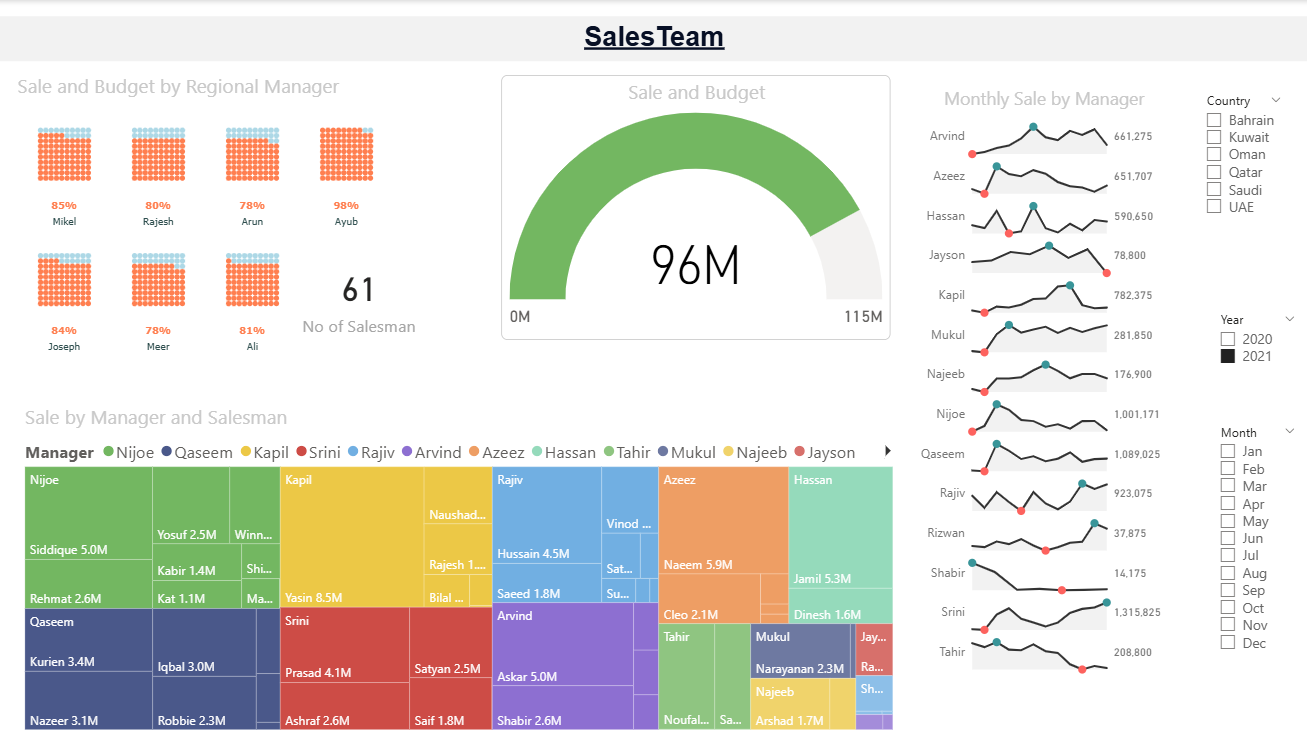

Layout of this report page (visuals, bound fields, positions):
{"tool":"powerbi","page":{"name":"Sales 2","canvas":[1280,720],"ordinal":2},"visuals":[{"type":"textbox","box":[0,15.9,1280.3,44],"z":0},{"type":"WaffleChart1453776852267","title":"Sale and Budget by Regional Manager","fields":{"Category":["Sales Data.Regional Manager"],"Values":["Sum(Sales Data.Sale)"],"MaxValue":["Sum(Sales Data.Budget)"]},"box":[12.2,70.9,377.9,289.6],"z":1000},{"type":"gauge","fields":{"Y":["Sum(Sales Data.Sale)"],"MaxValue":["Sum(Sales Data.Budget)"]},"box":[490,73,381,259],"z":2000},{"type":"treemap","fields":{"Group":["Sales Data.Manager"],"Details":["Sales Data.Salesman"],"Values":["Sum(Sales Data.Sale)"]},"box":[19,395,859,324],"z":3000},{"type":"slicer","fields":{"Values":["Geography.Country"]},"box":[1168,85,98,168],"z":4000},{"type":"slicer","fields":{"Values":["Dates.Year"]},"box":[1181,299,98,96],"z":5000},{"type":"slicer","fields":{"Values":["Dates.Month"]},"box":[1181,410,98,259],"z":6000},{"type":"PBI_CV_25997FEB_F466_44FA_B562_AC4063283C4C","title":"Monthly Sale by Manager","fields":{"measure":["Sum(Sales Data.Sale)"],"axis":["Dates.Month"],"category":["Sales Data.Manager"]},"box":[887.6,85,267.5,586.2],"z":7000},{"type":"card","fields":{"Values":["Sales Data.No of Salesman"]},"box":[290,252,123,80],"z":8000}]}

Visuals, with their boxes in screenshot pixels (x1, y1, x2, y2), scaled from the page's 1280x720 canvas onto the 1307x732 screenshot:
textbox: l=0, t=16, r=1306, b=61
"Sale and Budget by Regional Manager" WaffleChart1453776852267: l=12, t=72, r=398, b=367
gauge - Sum(Sales Data.Sale) x Sum(Sales Data.Budget): l=500, t=74, r=889, b=338
treemap - Sales Data.Manager x Sales Data.Salesman: l=19, t=402, r=897, b=731
slicer - Geography.Country: l=1193, t=86, r=1293, b=257
slicer - Dates.Year: l=1206, t=304, r=1306, b=402
slicer - Dates.Month: l=1206, t=417, r=1306, b=680
"Monthly Sale by Manager" PBI_CV_25997FEB_F466_44FA_B562_AC4063283C4C: l=906, t=86, r=1179, b=682
card - Sales Data.No of Salesman: l=296, t=256, r=422, b=338
